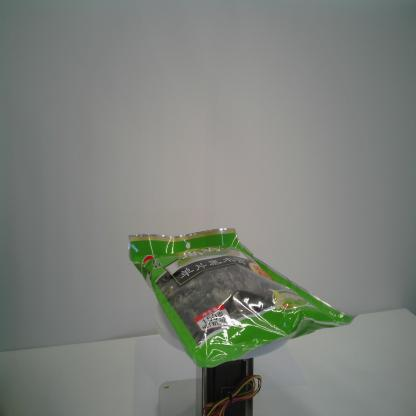Dried Food: (128, 226, 359, 368)
